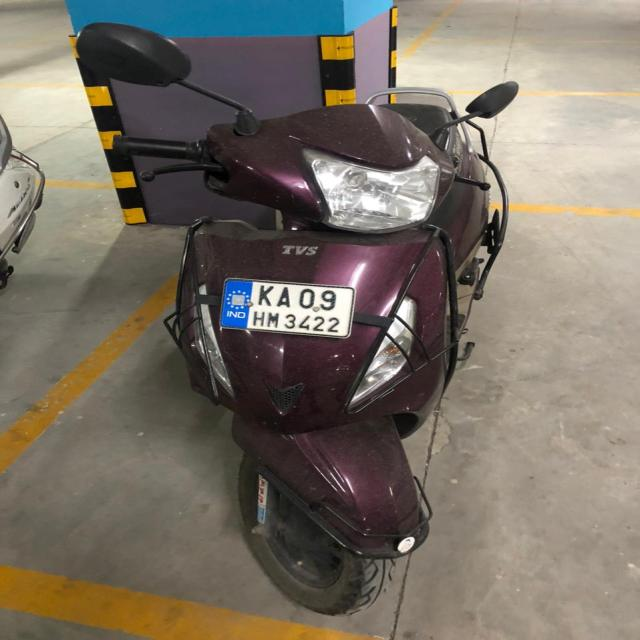number plate: (218, 277, 355, 339)
